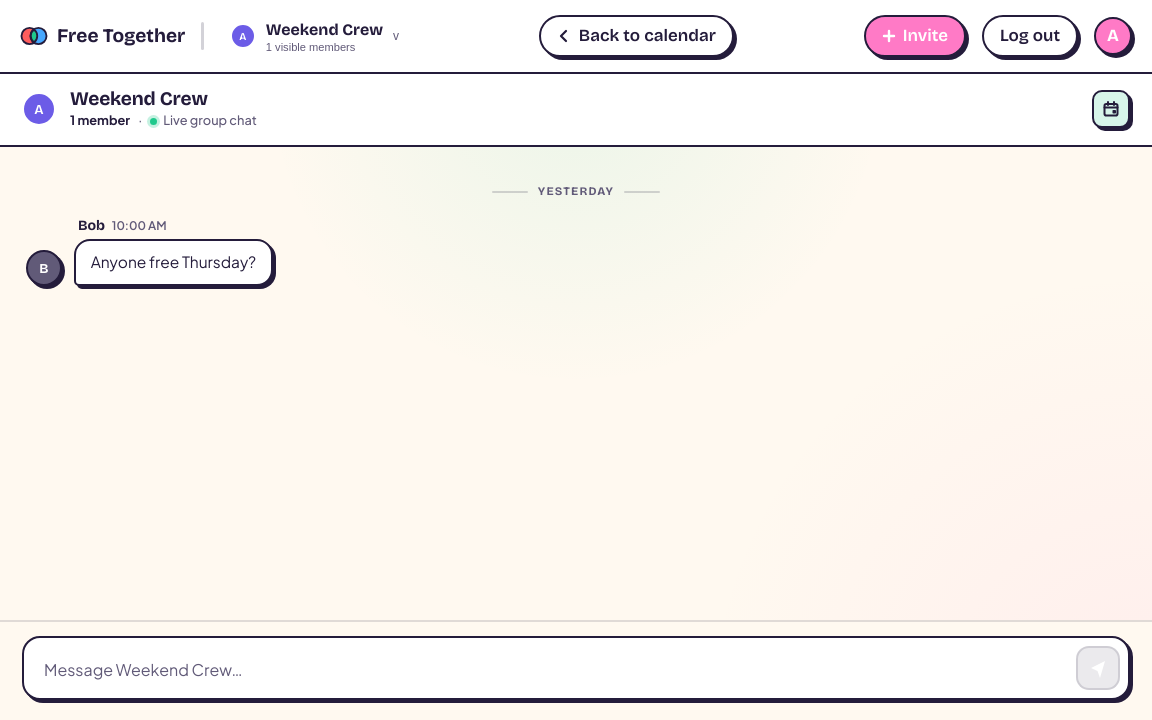
Test case: AppHome - topbar actions › loads and sends messages from the dedicated chat page
expect the heading "Weekend Crew" is shown: met, box 70,87 -> 208,110
expect the text "Anyone free Thursday?" is shown: met, box 74,239 -> 273,286
Type "I am free after 6." into the text box labelled "Message" at (553, 670), box 40,650 -> 1066,690
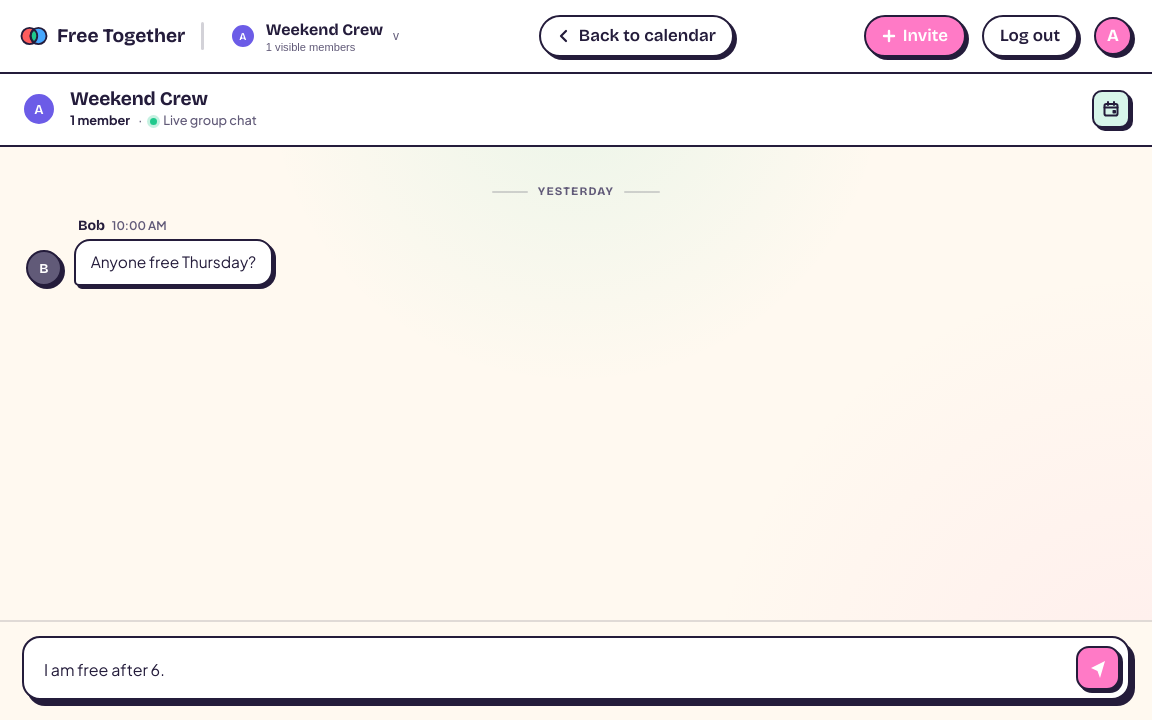
Click the button named "Send message" at (1098, 668), box 1076,646 -> 1120,690
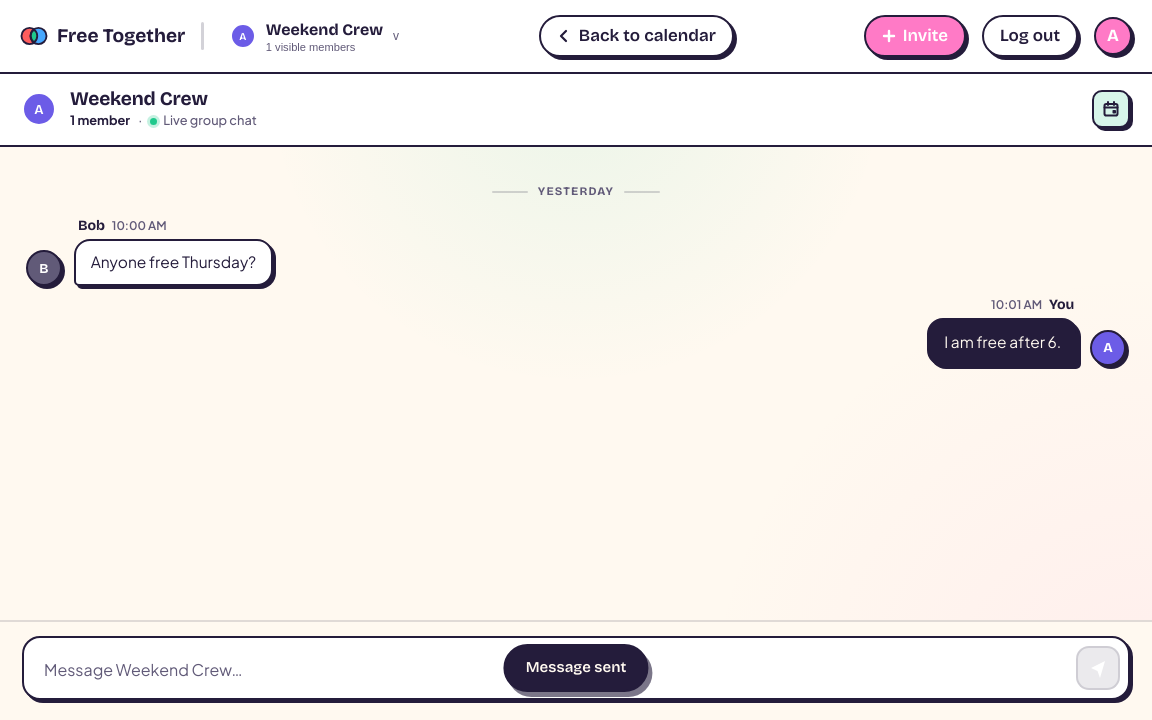
expect the text "I am free after 6." is shown: met, box 927,318 -> 1078,366
